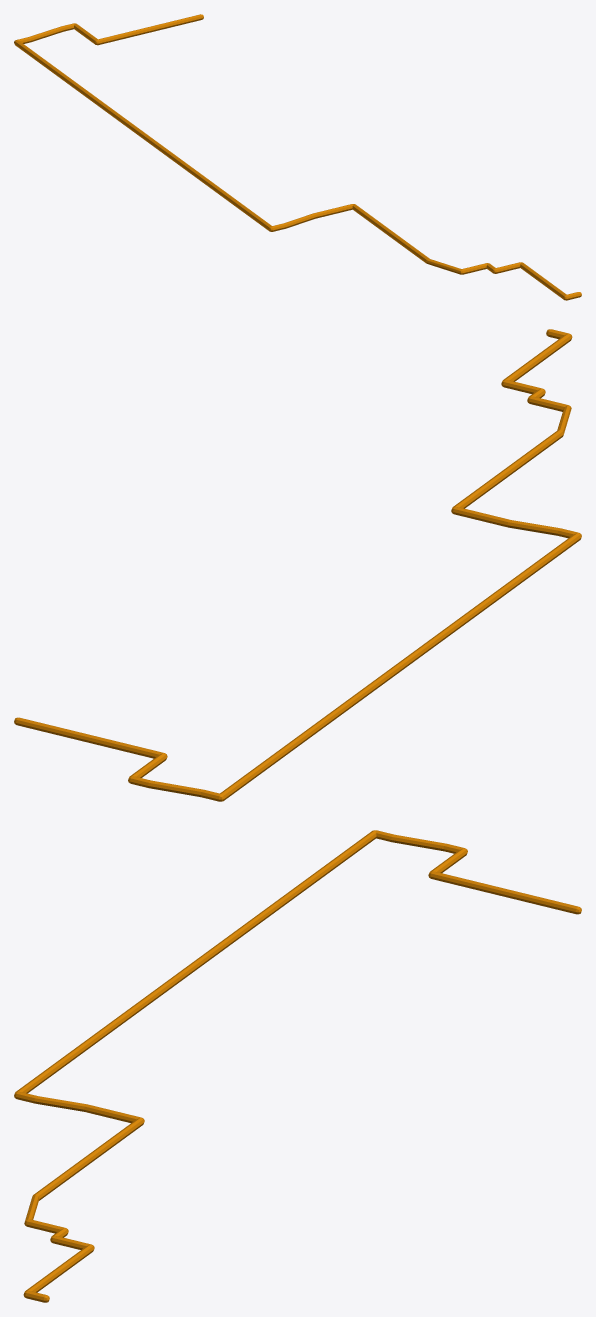
The picture shows the model from 3 angles, top to bottom: view 1: azimuth 30°, elevation 25°; view 2: azimuth 150°, elevation 25°; view 3: azimuth 330°, elevation 25°; orthographic projection. The views are drawn at different scales.
Size of the model in its own units: 654 by 20 by 2698.
